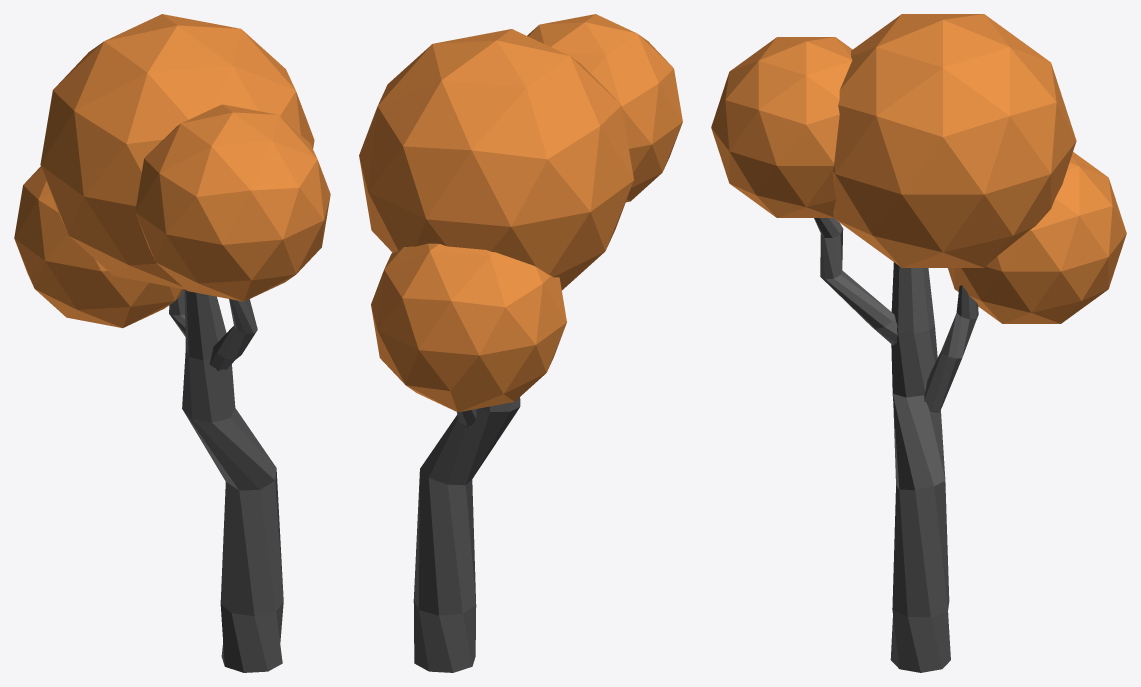
File: Tree4.fbx
3 renders of one model, left to right at view 1: azimuth 30°, elevation 25°; view 2: azimuth 150°, elevation 25°; view 3: azimuth 270°, elevation 25°, orthographic. The views are drawn at different scales.
Parts seen in each view (by area): view 1: Icosphere; view 2: Icosphere; view 3: Icosphere.
Part boxes in pixels (box(x1,y1,x2,y2)): Icosphere: box(14, 14, 330, 672); Icosphere: box(359, 14, 682, 672); Icosphere: box(711, 14, 1126, 672).
Bounding box in the file's own units: 267 × 708 × 437.
